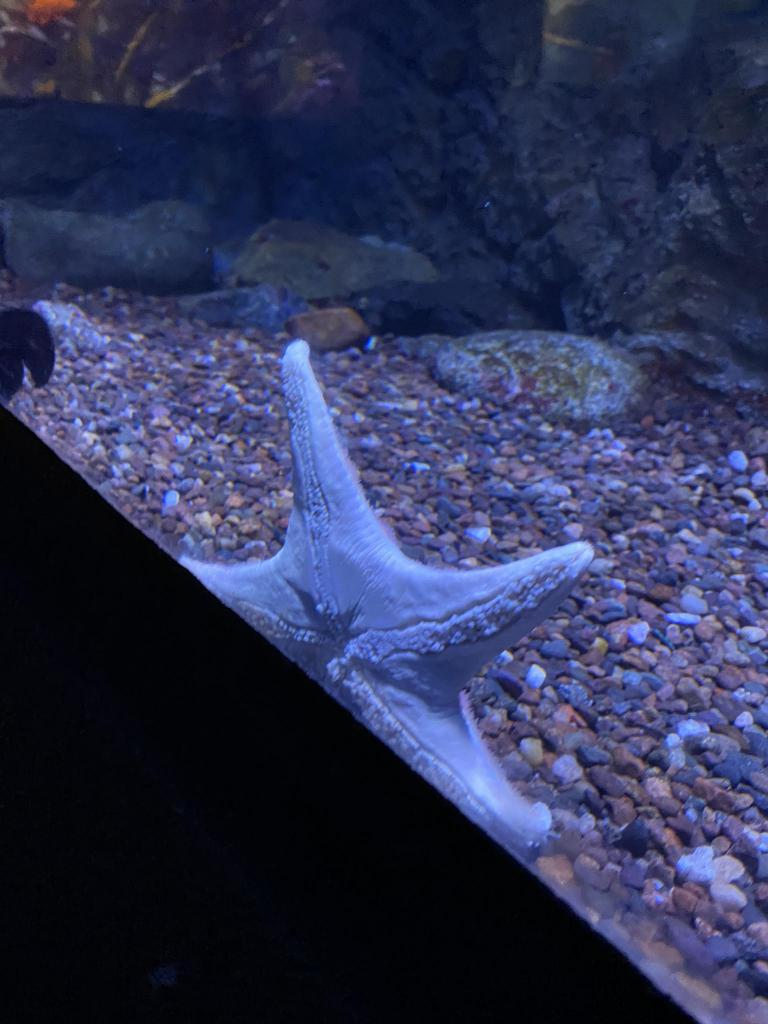starfish: (176, 340, 594, 854)
